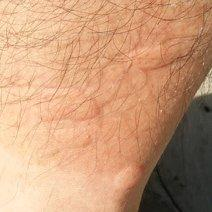Mosquito: (124, 40, 176, 71), (115, 162, 144, 191)
